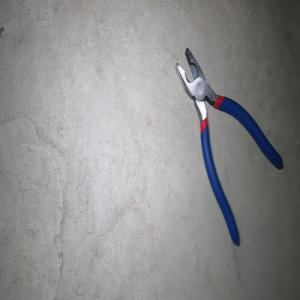Pliers: (175, 47, 283, 246)
